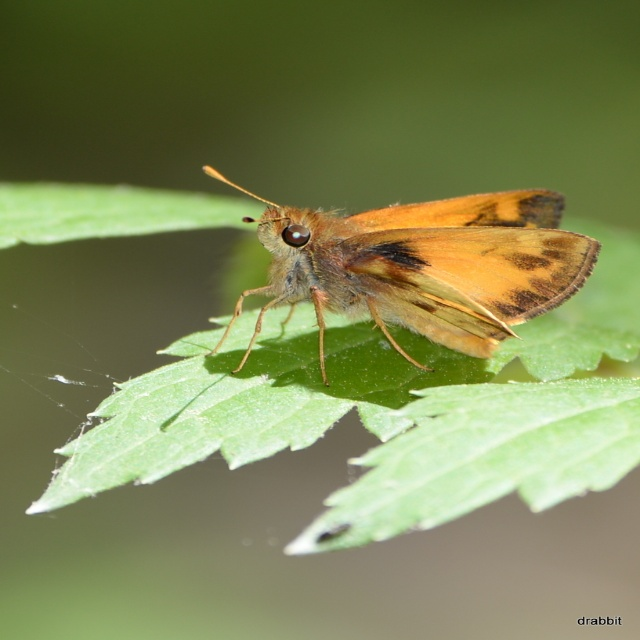Butterfly: (168, 147, 620, 381)
